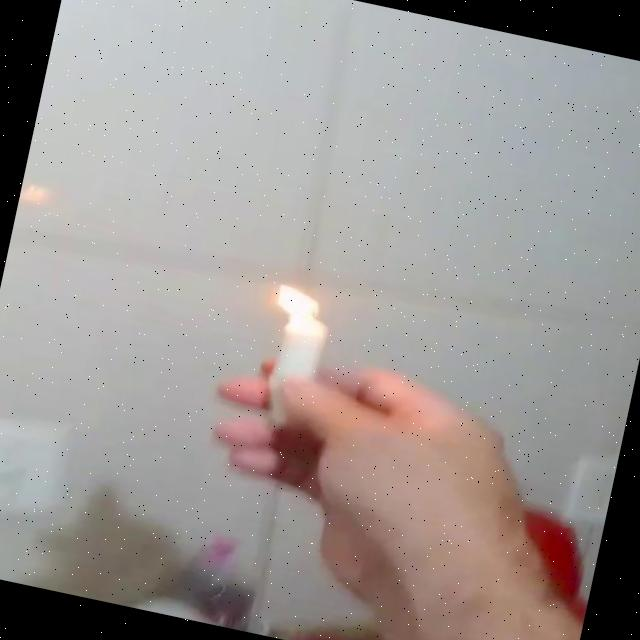fire: (266, 278, 328, 326)
